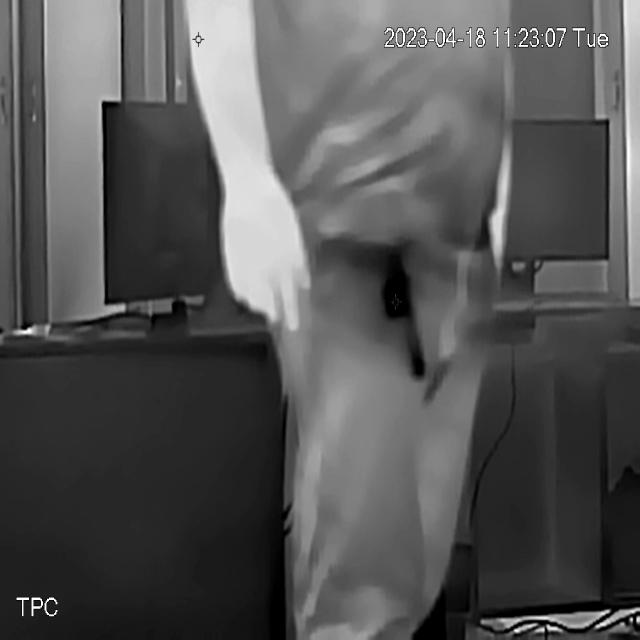Weapon: (315, 227, 432, 400)
